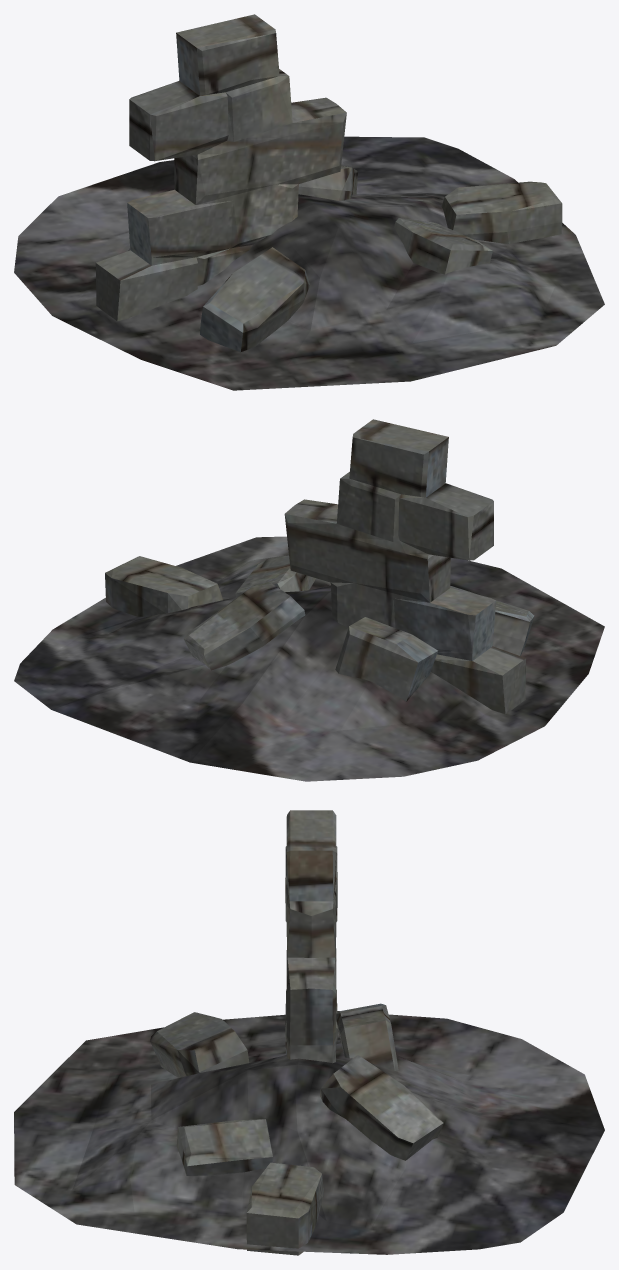
Rendered from Ruins 2.fbx.
3 views of the same model, one above another, from view 1: azimuth 30°, elevation 25°; view 2: azimuth 150°, elevation 25°; view 3: azimuth 270°, elevation 25° (orthographic). The views are drawn at different scales.
Parts seen in each view (by area): view 1: Ruins 2; view 2: Ruins 2; view 3: Ruins 2.
Boxes of the visible parts, x1,y1,x2,y2 form: Ruins 2: (14,14,604,390); Ruins 2: (14,419,604,781); Ruins 2: (14,810,604,1255).
Bounding box in the file's own units: 1101 × 571 × 1126.
Materials: 1 (1 with a texture image).
